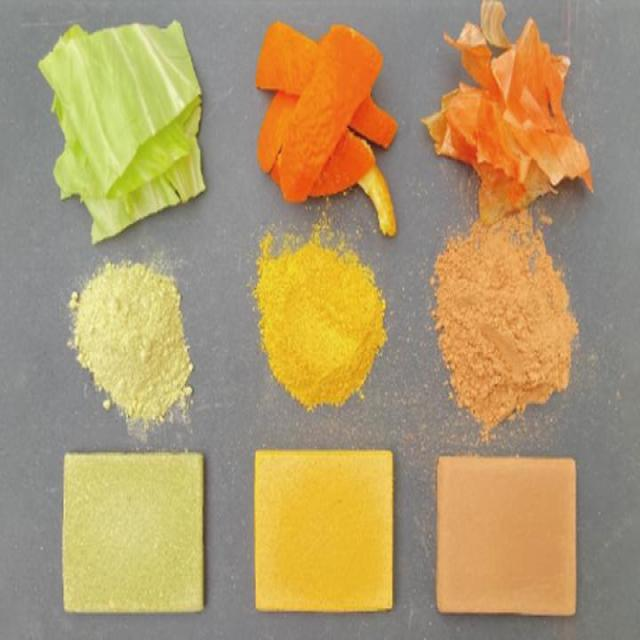Wet: (420, 0, 596, 223), (40, 20, 206, 246), (276, 23, 384, 207), (255, 20, 396, 150)
